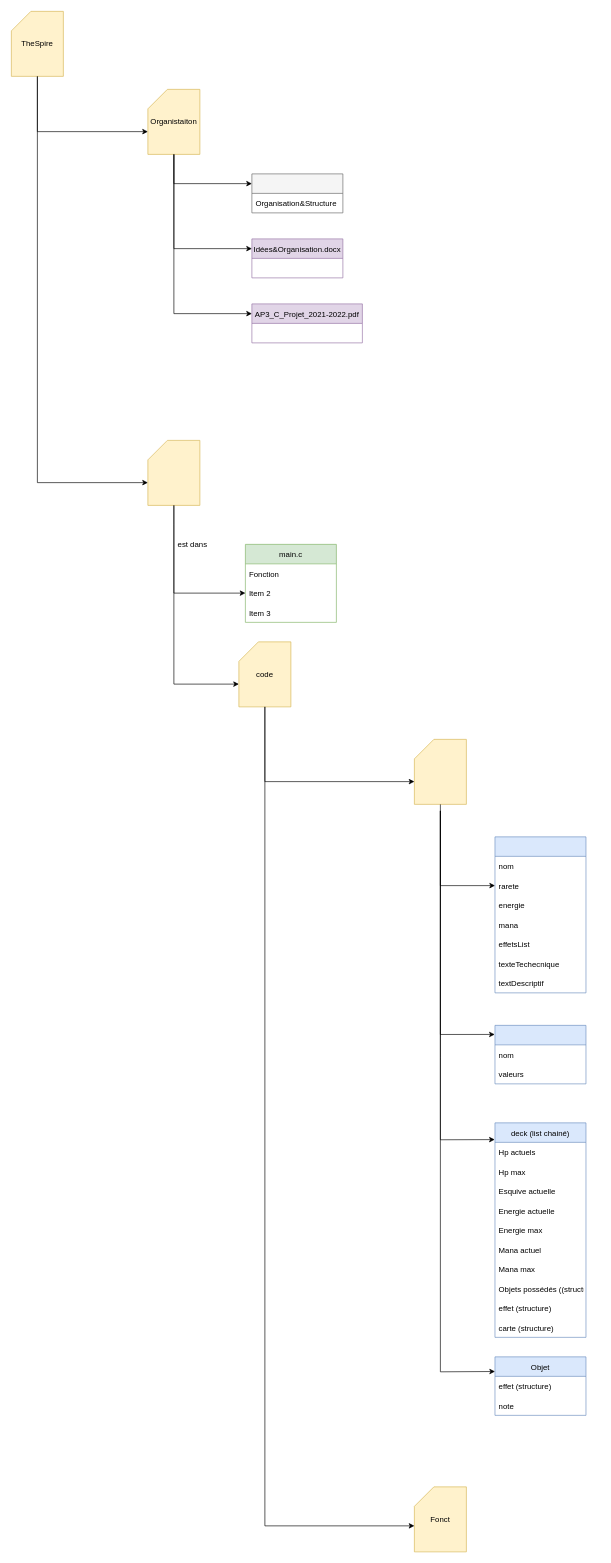
This 611x1563 diagram has some shape labels left out. The shapes that lost their labels are listed below. From the top down, each one's box as (x1, y1, x2, y2) in pixels, then its label:
(251, 173, 343, 213): diagramme.io
(147, 440, 200, 505): src
(414, 739, 466, 804): structures
(494, 836, 586, 993): carte
(494, 1025, 586, 1084): effet
